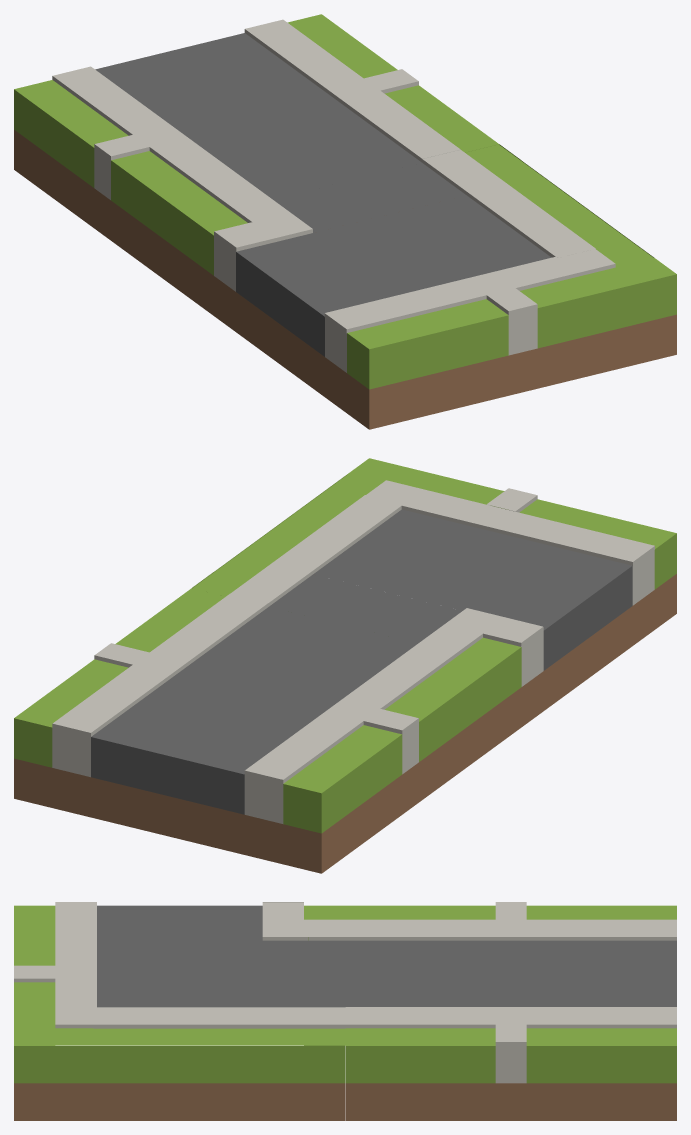
Rendered from singleturnroad.obj.
The picture shows the model from 3 angles, top to bottom: view 1: azimuth 30°, elevation 25°; view 2: azimuth 150°, elevation 25°; view 3: azimuth 270°, elevation 25°; orthographic projection. The views are drawn at different scales.
Visible parts, largest first — view 1: road-straight-house-2-low_Cube.001_road-straight-house-2-low_Cub, road-straight-house-2-low_Cube.003, road-straight-house-2-low_Cube.008_road-straight-house-2-low_Cub, road-straight-house-2-low_Cube.002_road-straight-house-2-low_Cub, road-straight-house-2-low_Cube.004_road-straight-house-2-low_Cub, road-straight-house-2-low_Cube.007_road-straight-house-2-low_Cub, road-straight-house-2-low_Cube.005_road-straight-house-2-low_Cub, road-straight-house-2-low_Cube.006_road-straight-house-2-low_Cub; view 2: road-straight-house-2-low_Cube.001_road-straight-house-2-low_Cub, road-straight-house-2-low_Cube.003, road-straight-house-2-low_Cube.008_road-straight-house-2-low_Cub, road-straight-house-2-low_Cube.002_road-straight-house-2-low_Cub, road-straight-house-2-low_Cube.004_road-straight-house-2-low_Cub, road-straight-house-2-low_Cube.007_road-straight-house-2-low_Cub, road-straight-house-2-low_Cube.005_road-straight-house-2-low_Cub, road-straight-house-2-low_Cube.006_road-straight-house-2-low_Cub; view 3: road-straight-house-2-low_Cube.001_road-straight-house-2-low_Cub, road-straight-house-2-low_Cube.003, road-straight-house-2-low_Cube.002_road-straight-house-2-low_Cub, road-straight-house-2-low_Cube.004_road-straight-house-2-low_Cub, road-straight-house-2-low_Cube.008_road-straight-house-2-low_Cub, road-straight-house-2-low_Cube.007_road-straight-house-2-low_Cub, road-straight-house-2-low_Cube.005_road-straight-house-2-low_Cub, road-straight-house-2-low_Cube.006_road-straight-house-2-low_Cub.
Boxes of the visible parts, bbox=[...] form: road-straight-house-2-low_Cube.001_road-straight-house-2-low_Cub: bbox=[14, 14, 498, 299]; road-straight-house-2-low_Cube.003: bbox=[191, 144, 676, 429]; road-straight-house-2-low_Cube.008_road-straight-house-2-low_Cub: bbox=[324, 249, 615, 332]; road-straight-house-2-low_Cube.002_road-straight-house-2-low_Cub: bbox=[273, 163, 466, 232]; road-straight-house-2-low_Cube.004_road-straight-house-2-low_Cub: bbox=[422, 150, 595, 257]; road-straight-house-2-low_Cube.007_road-straight-house-2-low_Cub: bbox=[465, 144, 653, 267]; road-straight-house-2-low_Cube.005_road-straight-house-2-low_Cub: bbox=[230, 196, 312, 242]; road-straight-house-2-low_Cube.006_road-straight-house-2-low_Cub: bbox=[214, 221, 276, 251]; road-straight-house-2-low_Cube.001_road-straight-house-2-low_Cub: bbox=[14, 588, 520, 873]; road-straight-house-2-low_Cube.003: bbox=[192, 458, 676, 743]; road-straight-house-2-low_Cube.008_road-straight-house-2-low_Cub: bbox=[366, 480, 654, 565]; road-straight-house-2-low_Cube.002_road-straight-house-2-low_Cub: bbox=[269, 574, 461, 643]; road-straight-house-2-low_Cube.004_road-straight-house-2-low_Cub: bbox=[230, 495, 403, 606]; road-straight-house-2-low_Cube.007_road-straight-house-2-low_Cub: bbox=[193, 474, 381, 596]; road-straight-house-2-low_Cube.005_road-straight-house-2-low_Cub: bbox=[422, 608, 502, 653]; road-straight-house-2-low_Cube.006_road-straight-house-2-low_Cub: bbox=[481, 617, 542, 646]; road-straight-house-2-low_Cube.001_road-straight-house-2-low_Cub: bbox=[304, 902, 676, 1120]; road-straight-house-2-low_Cube.003: bbox=[14, 902, 345, 1120]; road-straight-house-2-low_Cube.002_road-straight-house-2-low_Cub: bbox=[262, 940, 345, 1007]; road-straight-house-2-low_Cube.004_road-straight-house-2-low_Cub: bbox=[93, 1007, 345, 1028]; road-straight-house-2-low_Cube.008_road-straight-house-2-low_Cub: bbox=[55, 902, 96, 1028]; road-straight-house-2-low_Cube.007_road-straight-house-2-low_Cub: bbox=[55, 1028, 345, 1045]; road-straight-house-2-low_Cube.005_road-straight-house-2-low_Cub: bbox=[262, 919, 346, 940]; road-straight-house-2-low_Cube.006_road-straight-house-2-low_Cub: bbox=[262, 902, 303, 920].
Bounding box in the file's own units: 8.01 × 2.1 × 16.
